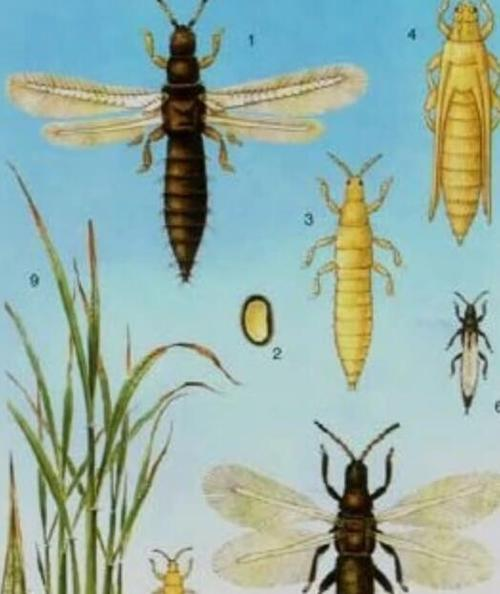Phlaeothripidae: (6, 1, 364, 285), (203, 414, 500, 594), (443, 278, 494, 414)
